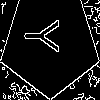Y: (25, 20, 68, 53)
